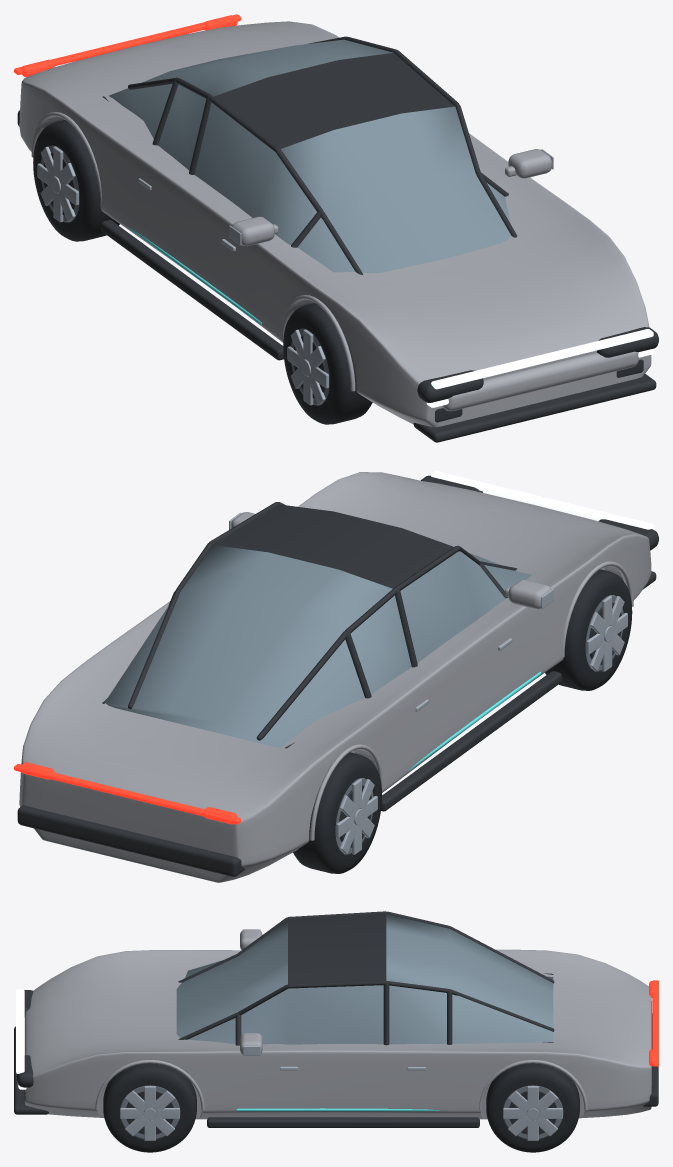
File: undertow.fbx
The picture shows the model from 3 angles, top to bottom: view 1: azimuth 30°, elevation 25°; view 2: azimuth 150°, elevation 25°; view 3: azimuth 270°, elevation 25°; orthographic projection. The views are drawn at different scales.
Parts seen in each view (by area): view 1: Sculpted exterior panels, Cabin glazing, Crowned roof panel, Performance tyre FL, Performance tyre RL, Closed electric nose panel, Front lower splitter, Low sill molding, Full-width front luminous belt, Alloy spoke face RL, Alloy spoke face FL, Full-width rear luminous belt (+6 smaller); view 2: Sculpted exterior panels, Cabin glazing, Crowned roof panel, Rear diffuser, Performance tyre RL, Performance tyre FL, Low sill molding, Full-width front luminous belt, Alloy spoke face FL, Alloy spoke face RL, Full-width rear luminous belt, Mirror_L_Housing (+4 smaller); view 3: Sculpted exterior panels, Cabin glazing, Crowned roof panel, Performance tyre FR, Performance tyre RR, Low sill molding.001, Alloy spoke face FR, Alloy spoke face RR, Full-width front luminous belt, Battery sill copper inlay.001, Rolled fender lip.002, Rolled fender lip.003 (+10 smaller).
Part boxes in pixels (bbox=[...]): Sculpted exterior panels: bbox=[19, 21, 651, 427]; Cabin glazing: bbox=[109, 39, 511, 273]; Crowned roof panel: bbox=[214, 52, 455, 148]; Performance tyre FL: bbox=[283, 303, 372, 424]; Performance tyre RL: bbox=[33, 120, 119, 241]; Closed electric nose panel: bbox=[442, 351, 638, 411]; Front lower splitter: bbox=[413, 374, 656, 442]; Low sill molding: bbox=[101, 220, 283, 360]; Full-width front luminous belt: bbox=[431, 329, 653, 389]; Alloy spoke face RL: bbox=[37, 146, 78, 222]; Alloy spoke face FL: bbox=[287, 329, 328, 405]; Full-width rear luminous belt: bbox=[14, 14, 241, 74]; Sculpted exterior panels: bbox=[19, 472, 651, 882]; Cabin glazing: bbox=[105, 545, 531, 747]; Crowned roof panel: bbox=[213, 504, 453, 588]; Rear diffuser: bbox=[17, 805, 244, 876]; Performance tyre RL: bbox=[293, 752, 382, 873]; Performance tyre FL: bbox=[545, 569, 632, 690]; Low sill molding: bbox=[381, 671, 561, 811]; Full-width front luminous belt: bbox=[431, 471, 653, 529]; Alloy spoke face FL: bbox=[586, 596, 627, 671]; Alloy spoke face RL: bbox=[336, 779, 377, 854]; Full-width rear luminous belt: bbox=[14, 764, 241, 824]; Mirror_L_Housing: bbox=[508, 579, 551, 609]; Sculpted exterior panels: bbox=[25, 949, 651, 1119]; Cabin glazing: bbox=[176, 914, 553, 1044]; Crowned roof panel: bbox=[288, 914, 386, 984]; Performance tyre FR: bbox=[103, 1063, 196, 1152]; Performance tyre RR: bbox=[486, 1063, 579, 1152]; Low sill molding.001: bbox=[207, 1117, 479, 1127]; Alloy spoke face FR: bbox=[120, 1086, 179, 1140]; Alloy spoke face RR: bbox=[503, 1086, 562, 1140]; Full-width front luminous belt: bbox=[16, 989, 24, 1073]; Battery sill copper inlay.001: bbox=[236, 1108, 439, 1111]; Rolled fender lip.002: bbox=[95, 1060, 204, 1110]; Rolled fender lip.003: bbox=[479, 1060, 587, 1110].
Size of the model in its own units: 2.2 by 1.37 by 5.1.
